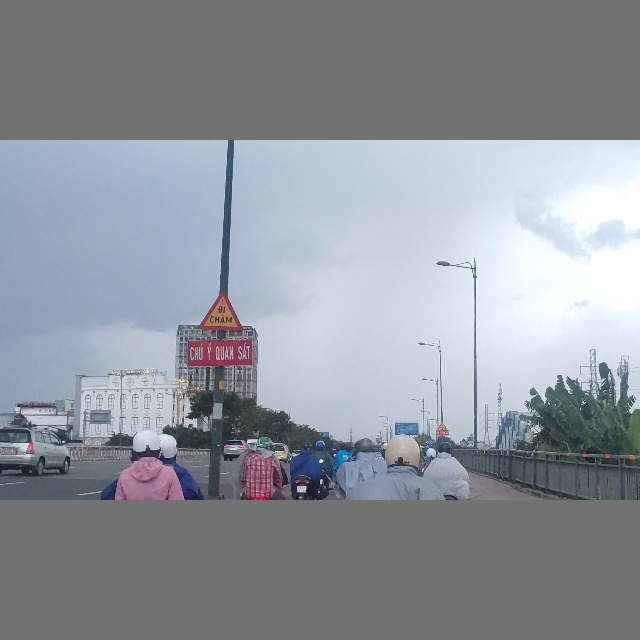W.245a: (198, 290, 243, 331)
